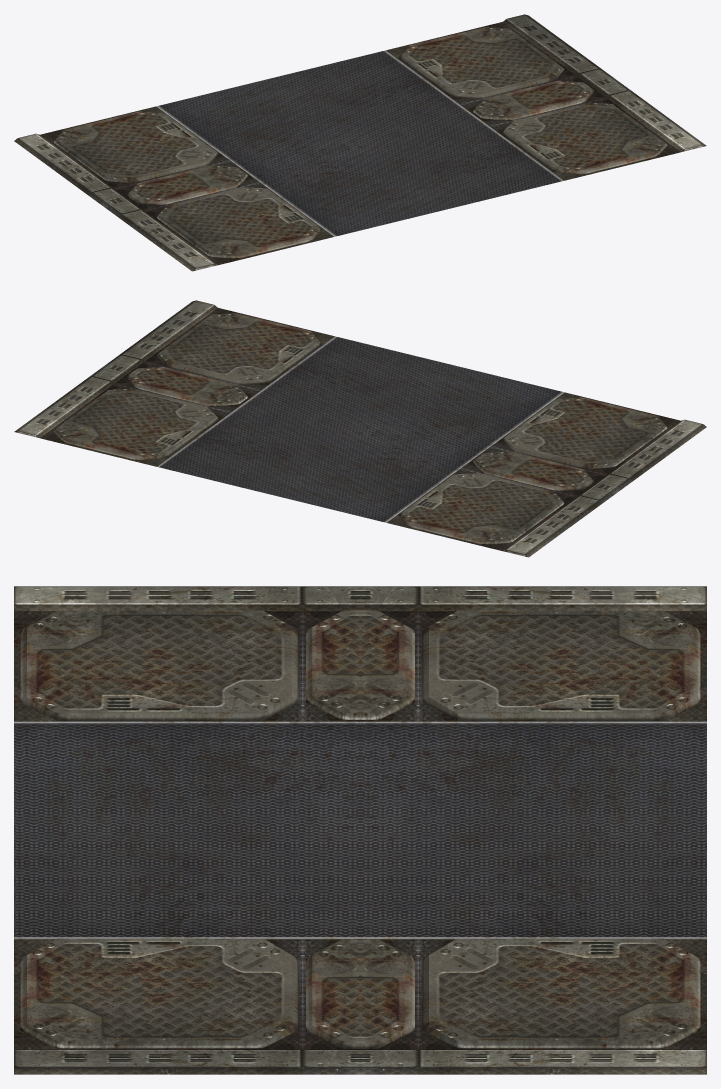
File: Floor_D_5mts_02.fbx
3 views of the same model, one above another, from view 1: azimuth 30°, elevation 25°; view 2: azimuth 150°, elevation 25°; view 3: azimuth 270°, elevation 25° (orthographic). The views are drawn at different scales.
Parts seen in each view (by area): view 1: Floor_D_5mts_02; view 2: Floor_D_5mts_02; view 3: Floor_D_5mts_02.
Part boxes in pixels (box(x1,y1,x2,y2)): Floor_D_5mts_02: box(14, 14, 706, 271); Floor_D_5mts_02: box(14, 300, 706, 557); Floor_D_5mts_02: box(14, 586, 706, 1074).
Bounding box in the file's own units: 500 × 2.21 × 300.
Materials: 1 (1 with a texture image).
